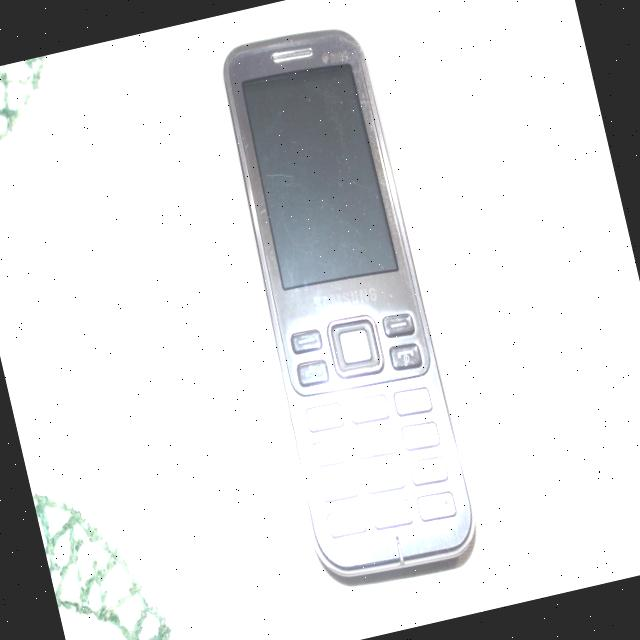Phone: (198, 16, 485, 596)
